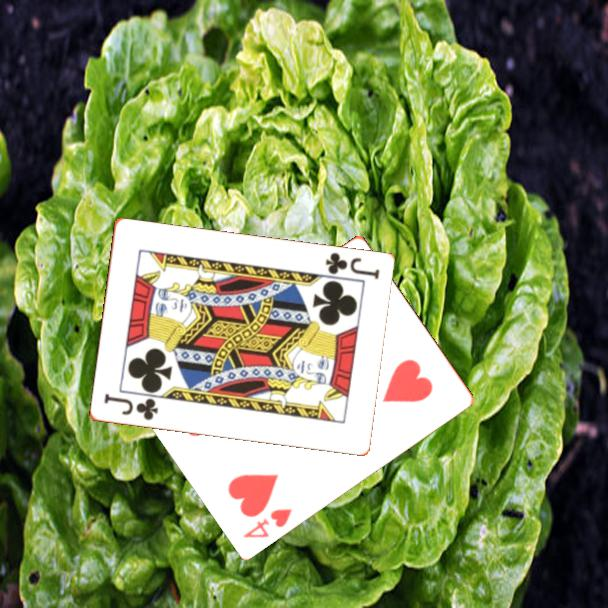c11: (321, 249, 382, 283), (100, 390, 160, 423)
h04: (240, 504, 295, 541)
